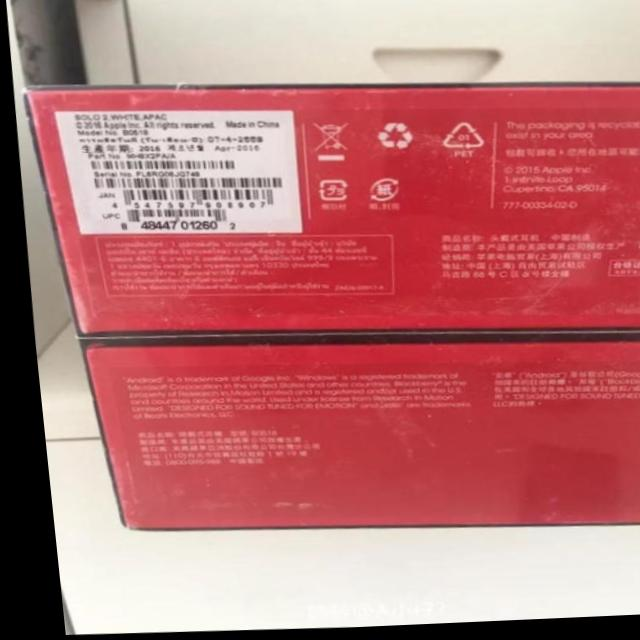box: (20, 84, 640, 340), (71, 336, 640, 532)
